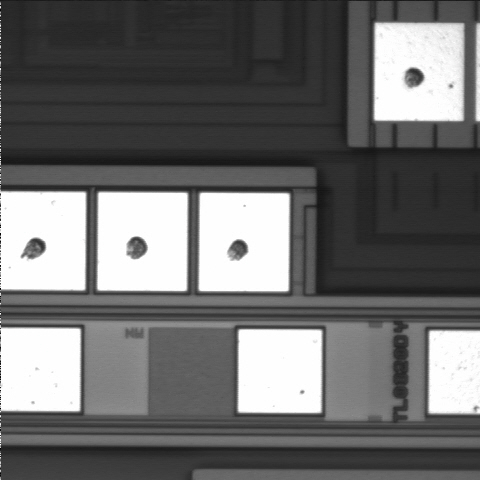pad: (97, 192, 188, 291), (199, 193, 289, 291), (374, 23, 463, 121), (238, 329, 322, 413)
